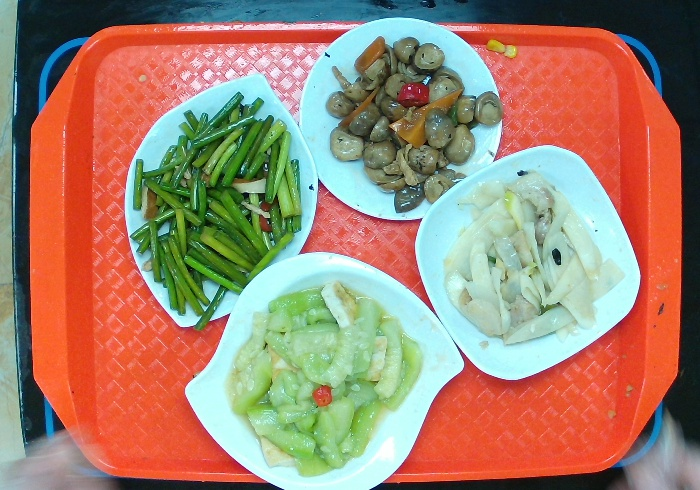RJxy-Da_Du_Pan: (124, 67, 324, 337)
RJxy-Shuang_Jiao_Pan: (176, 246, 467, 490)
RJxy-Si_Fang_Wan: (406, 141, 643, 388)
RJxy-Xiao_Yuan_Die: (286, 16, 508, 229)
